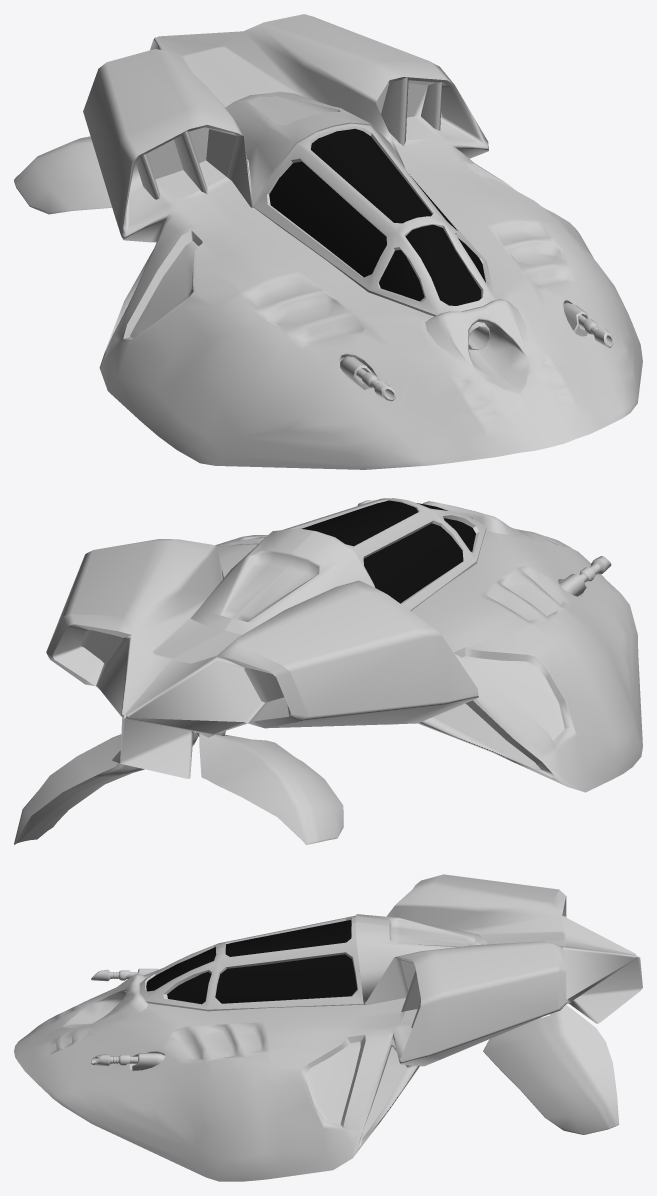
The model's file is evtanksf.fbx.
The picture shows the model from 3 angles, top to bottom: view 1: azimuth 30°, elevation 25°; view 2: azimuth 150°, elevation 25°; view 3: azimuth 270°, elevation 25°; orthographic projection. The views are drawn at different scales.
Parts seen in each view (by area): view 1: mainbody, cockpit, canopy, wing_r, intake; view 2: mainbody, wing_r, cockpit, wing_l, canopy; view 3: mainbody, wing_l, cockpit, canopy, intake, recoil_l.
Boxes of the visible parts, left/top/right/bottom form: mainbody: left=83, top=14, right=642, bottom=469; cockpit: left=269, top=128, right=485, bottom=305; canopy: left=254, top=123, right=495, bottom=316; wing_r: left=14, top=136, right=112, bottom=214; intake: left=136, top=77, right=442, bottom=199; mainbody: left=46, top=501, right=642, bottom=792; wing_r: left=199, top=733, right=343, bottom=845; cockpit: left=301, top=500, right=475, bottom=603; wing_l: left=14, top=731, right=198, bottom=844; canopy: left=283, top=498, right=486, bottom=610; mainbody: left=14, top=874, right=642, bottom=1181; wing_l: left=483, top=1005, right=619, bottom=1134; cockpit: left=146, top=920, right=357, bottom=1004; canopy: left=139, top=915, right=363, bottom=1011; intake: left=401, top=970, right=420, bottom=1027; recoil_l: left=91, top=1054, right=137, bottom=1066.
Bounding box in the file's own units: 5.9 × 2.65 × 8.46.
